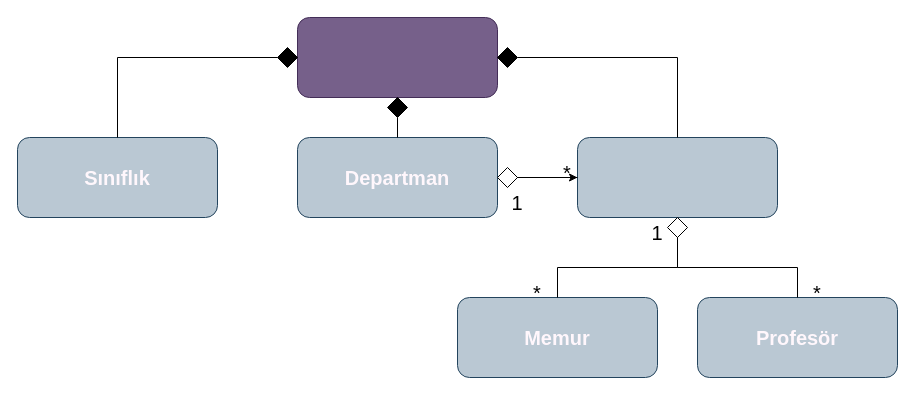
This 915x395 diagram has some shape labels left out. Each missing label, with the centre of its shape:
"Çalışma Ofisi" goes at point 677,177.
"Üniversite" goes at point 397,57.
